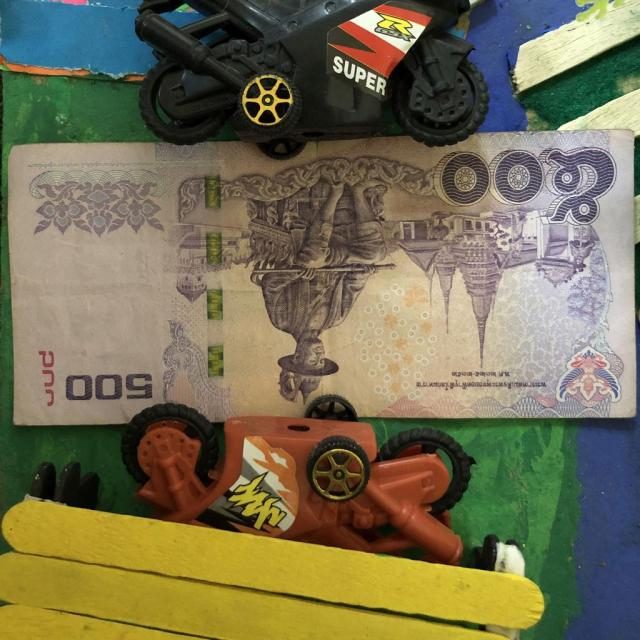THAI500: (6, 130, 639, 425)
